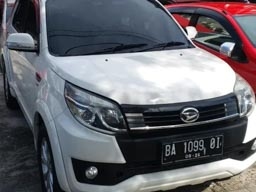plat: (161, 139, 222, 158)
